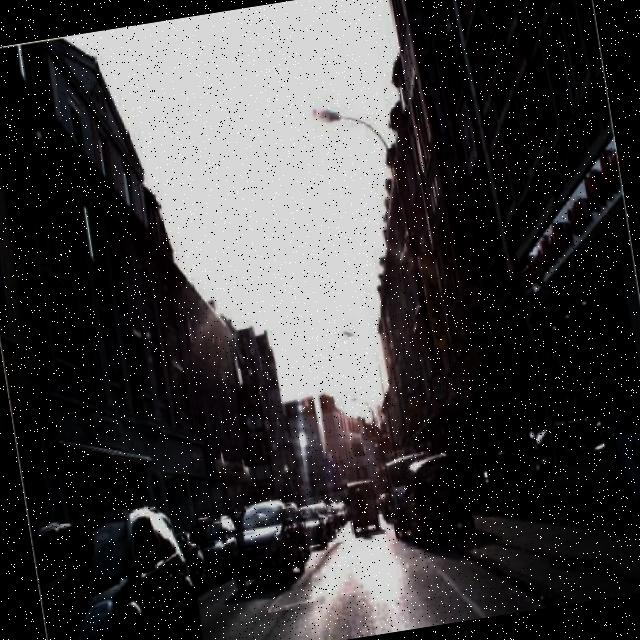Ograniczenie predkosci do 30: (426, 368, 453, 408)
